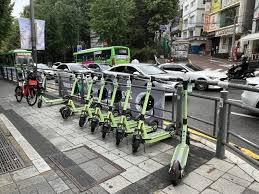kick_board: (170, 162, 182, 185), (132, 137, 140, 151), (61, 106, 70, 118), (100, 124, 107, 139), (115, 131, 121, 144), (78, 115, 85, 126), (89, 120, 95, 132), (38, 100, 42, 106)
kick_handler: (168, 78, 202, 87), (140, 75, 168, 84)
kick_neck: (181, 89, 187, 139)
